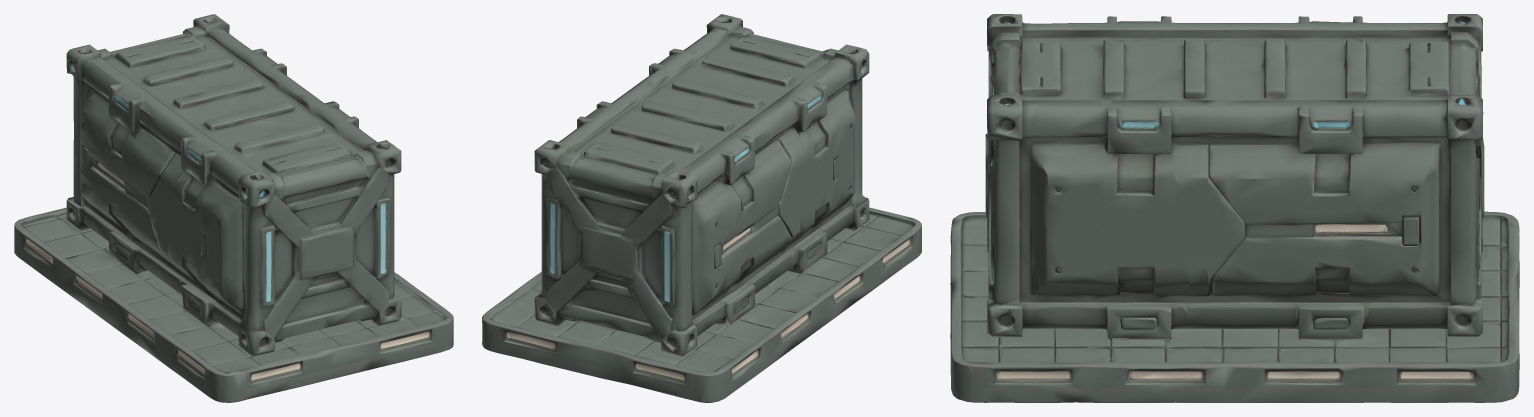
Rendered from Casa6.glb.
The picture shows the model from 3 angles, left to right: view 1: azimuth 30°, elevation 25°; view 2: azimuth 150°, elevation 25°; view 3: azimuth 270°, elevation 25°; orthographic projection. The views are drawn at different scales.
Visible parts, largest first — view 1: tripo_node_53f05d09-cad1-4188-90da-c8beaab9bb11; view 2: tripo_node_53f05d09-cad1-4188-90da-c8beaab9bb11; view 3: tripo_node_53f05d09-cad1-4188-90da-c8beaab9bb11.
Part boxes in pixels (box(x1,y1,x2,y2)): tripo_node_53f05d09-cad1-4188-90da-c8beaab9bb11: box(14, 14, 453, 402); tripo_node_53f05d09-cad1-4188-90da-c8beaab9bb11: box(482, 14, 921, 402); tripo_node_53f05d09-cad1-4188-90da-c8beaab9bb11: box(950, 14, 1519, 402).
Bounding box in the file's own units: 0.6331 × 0.5037 × 0.9791.
Materials: 1 (1 with a texture image).
